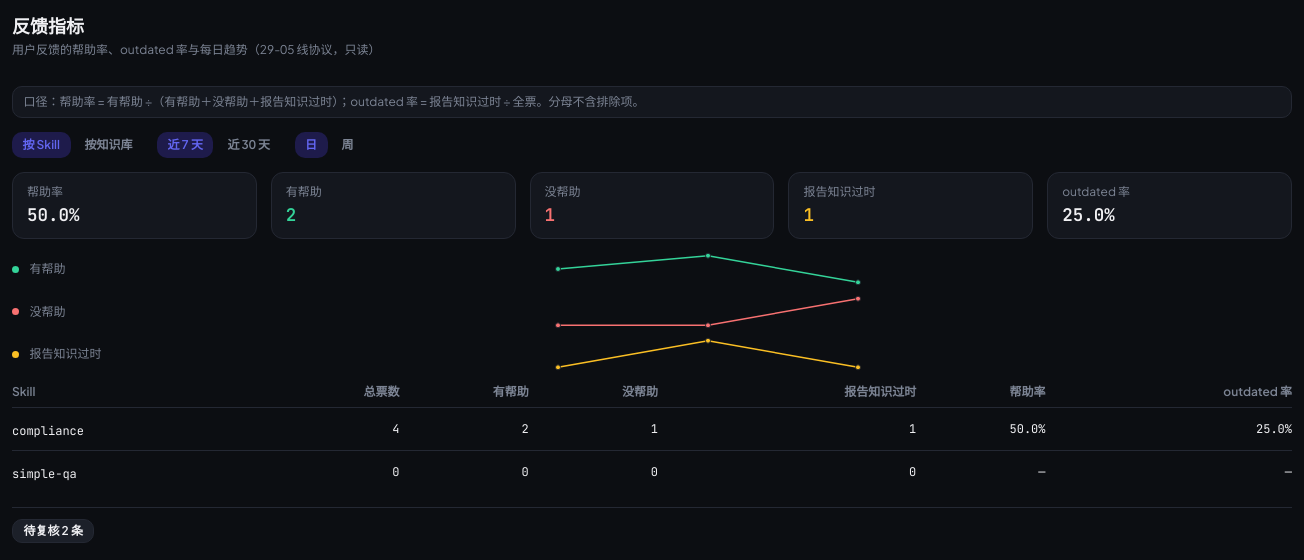
Test: FeedbackMetricsPanel — controls re-fetch › switching to 按知识库 refetches with dim=base and renders the verbatim per-KB footnote
Expected: the row with test id "metrics-row-compliance" is shown, [12,408,1292,451]
Step 1. Click the button with test id "metrics-dim-base" → point(108, 145), box [74,132,143,158]
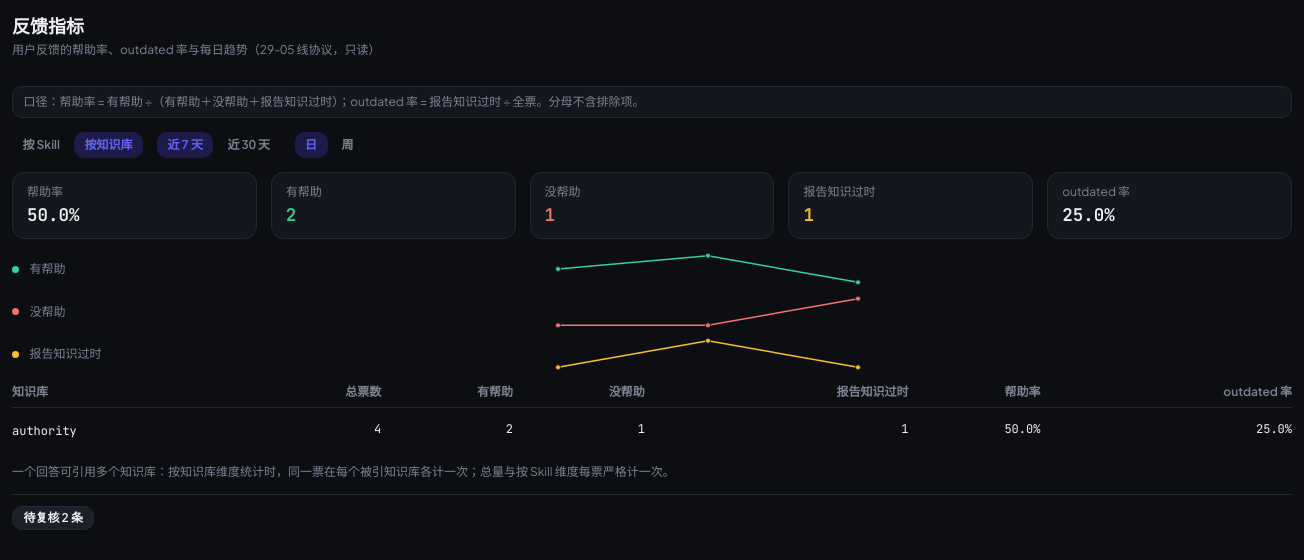
Now the row with test id "metrics-row-authority" shows "authority", box [12,423,77,439]
Now the text with test id "metrics-kb-footnote" reads "一个回答可引用多个知识库：按知识库维度统计时，同一票在每个被引知识库各计一次；总量与按 Skill 维度每票严格计一次。", box [12,464,675,479]
